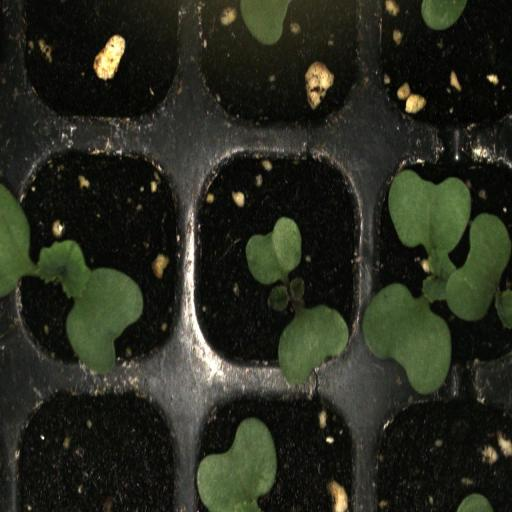Folha: (278, 305, 350, 385), (245, 216, 302, 311)
Germinacao: (187, 135, 374, 384), (8, 136, 188, 381), (375, 133, 512, 388)
